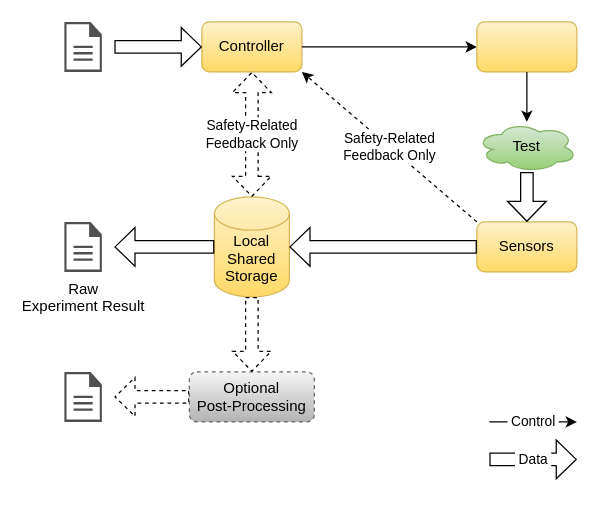
Some shapes in this 609 by 506 pixel diagram are drawn without their labels. The shapes that lost their labels are listed below. From the top down, each one's centre as x and y in pixels, then its label:
(82,46): Experiment Plan
(526,46): Actuators
(82,396): Optional Post-Processed Experiment Result
